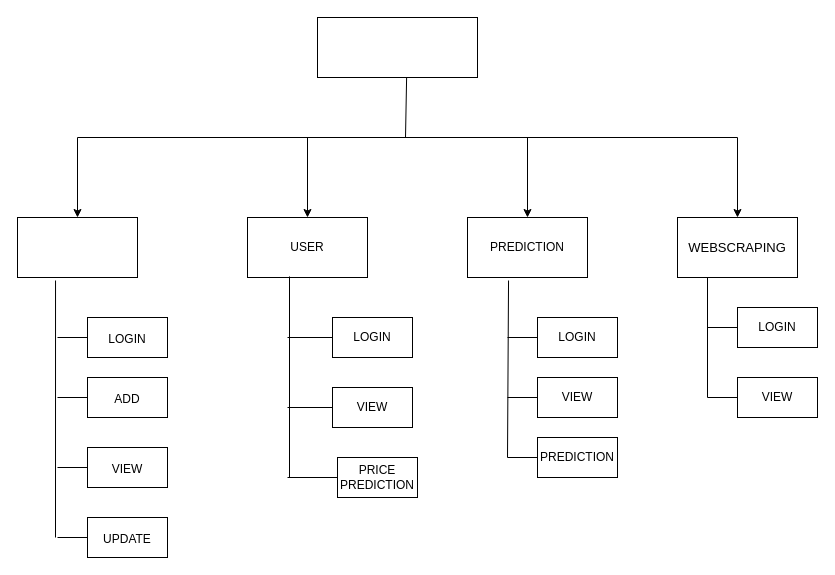
This 835x575 diagram has some shape labels left out. The shapes that lost their labels are listed below. From the top down, each one's centre as x and y in pixels, then its label:
the point at 397,47: AMAZON PHONE PRICE
the point at 77,247: ADMIN
